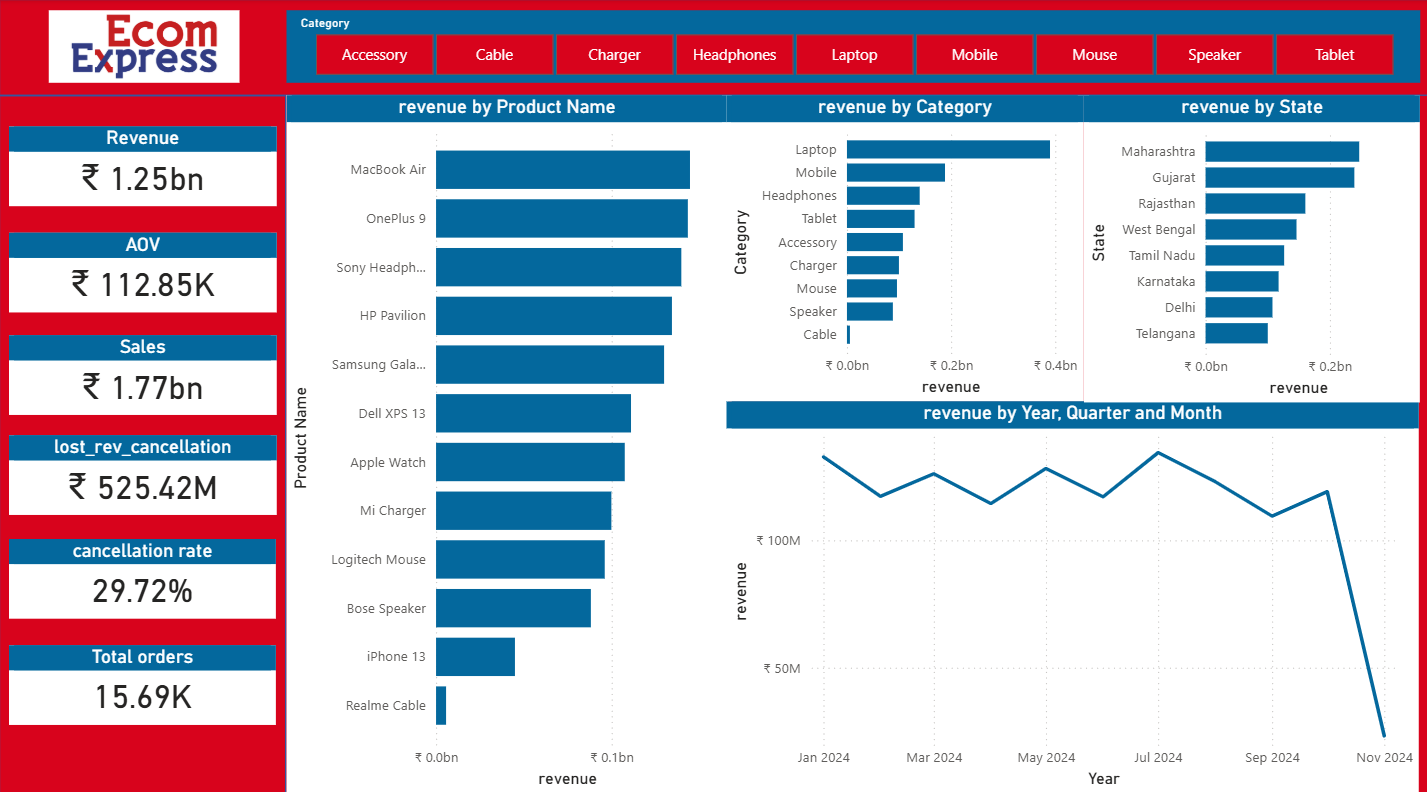

This screenshot's page, from the dashboard's own definition file:
{"tool":"powerbi","page":{"name":"Page 1","canvas":[1280,720],"ordinal":0},"visuals":[{"type":"shape","box":[0,85.9,256.7,634.3],"z":0},{"type":"shape","box":[0,0,1280.3,86.4],"z":1000},{"type":"image","box":[10.2,10.2,238.6,64.4],"z":2000},{"type":"barChart","title":"revenue by Product Name","fields":{"Y":["Table.revenue"],"Category":["Products.Product Name"]},"box":[256.3,85.8,394.1,623.3],"z":3000},{"type":"barChart","fields":{"Y":["Table.revenue"],"Category":["Products.Category"]},"box":[650.1,85.9,318.8,273.6],"z":4000},{"type":"lineChart","fields":{"Category":["Orders.Date and time of purchase.Variation.Date Hierarchy.Year","Orders.Date and time of purchase.Variation.Date Hierarchy.Quarter","Orders.Date and time of purchase.Variation.Date Hierarchy.Month","Orders.Date and time of purchase.Variation.Date Hierarchy.Day"],"Y":["Table.revenue"]},"box":[650.4,359.1,618.8,350],"z":5000},{"type":"barChart","fields":{"Category":["Customers.State"],"Y":["Table.revenue"]},"box":[968.8,85.8,300.4,274.4],"z":6000},{"type":"slicer","fields":{"Values":["Products.Category"]},"box":[256.7,10.2,1013.1,64.4],"z":7000},{"type":"card","title":"Revenue","fields":{"Values":["Table.revenue"]},"box":[10.2,111.9,238.6,71.2],"z":8000},{"type":"card","title":"AOV","fields":{"Values":["Table.AOV"]},"box":[10.2,208,238.6,71.2],"z":9000},{"type":"card","title":"Sales","fields":{"Values":["Table.sales"]},"box":[12.4,298.5,238.6,71.2],"z":10000},{"type":"card","title":"lost_rev_cancellation","fields":{"Values":["Table.lost_rev_cancellation"]},"box":[11.3,390.1,238.6,71.2],"z":11000},{"type":"card","title":"cancellation rate","fields":{"Values":["Table.cancellation rate"]},"box":[9,482.8,238.6,71.2],"z":12000},{"type":"card","title":"Total orders","fields":{"Values":["CountNonNull(Orders.OrderID)"]},"box":[9,577.8,238.6,71.2],"z":13000}]}

Visuals, with their boxes in screenshot pixels (x1, y1, x2, y2), scaled from the page's 1280x720 canvas onto the 1427x792 screenshot:
shape: 0 94 286 791
shape: 0 0 1426 95
image: 11 11 277 82
"revenue by Product Name" barChart: 286 94 725 780
barChart - Table.revenue x Products.Category: 725 94 1080 395
lineChart - Orders.Date and time of purchase.Variation.Date Hierarchy.Year x Orders.Date and time of purchase.Variation.Date Hierarchy.Quarter: 725 395 1415 780
barChart - Customers.State x Table.revenue: 1080 94 1415 396
slicer - Products.Category: 286 11 1416 82
"Revenue" card: 11 123 277 201
"AOV" card: 11 229 277 307
"Sales" card: 14 328 280 407
"lost_rev_cancellation" card: 13 429 279 507
"cancellation rate" card: 10 531 276 609
"Total orders" card: 10 636 276 714
